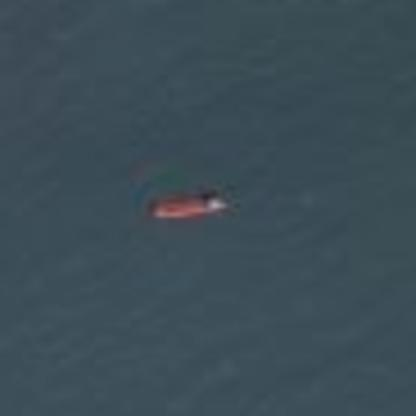ship: (140, 190, 230, 218)
